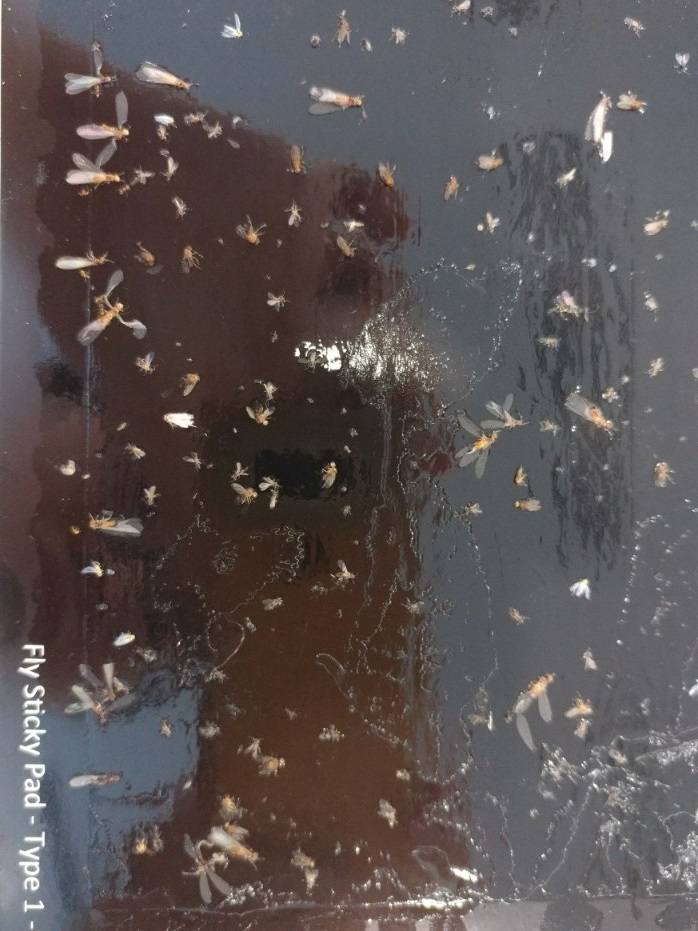flying termite: (70, 89, 144, 158), (58, 53, 133, 105), (130, 54, 207, 101), (82, 499, 147, 541), (305, 82, 373, 121), (66, 152, 130, 192), (53, 244, 118, 275)
